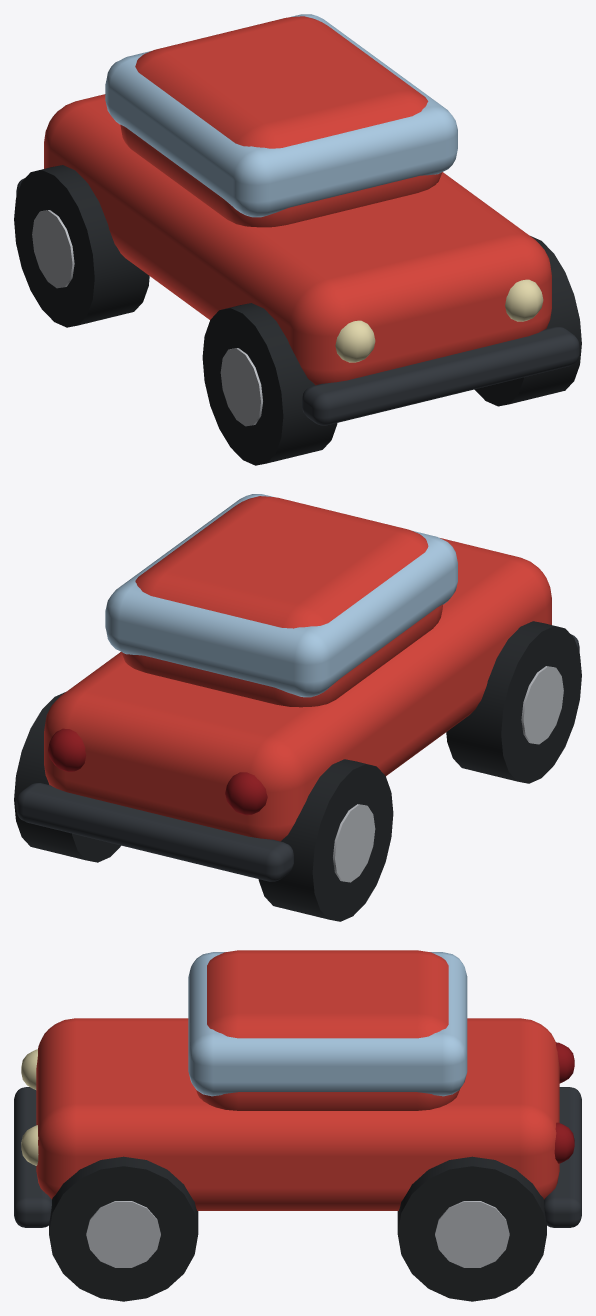
Rendered from car.glb.
3 renders of one model, top to bottom at view 1: azimuth 30°, elevation 25°; view 2: azimuth 150°, elevation 25°; view 3: azimuth 270°, elevation 25°, orthographic. The views are drawn at different scales.
Visible parts, largest first — view 1: body, wheel_rr, wheel_fr, wheel_fl; view 2: body, wheel_fr, wheel_rr, wheel_rl; view 3: body, wheel_fl, wheel_rl.
Boxes of the visible parts, x1=… form: body: x1=16, y1=14, x2=579, y2=425; wheel_rr: x1=14, y1=165, x2=149, y2=327; wheel_fr: x1=202, y1=303, x2=337, y2=465; wheel_fl: x1=474, y1=236, x2=581, y2=406; body: x1=16, y1=494, x2=579, y2=881; wheel_fr: x1=446, y1=621, x2=581, y2=783; wheel_rr: x1=258, y1=759, x2=393, y2=921; wheel_rl: x1=14, y1=692, x2=120, y2=862; body: x1=14, y1=950, x2=581, y2=1227; wheel_fl: x1=49, y1=1156, x2=198, y2=1301; wheel_rl: x1=397, y1=1156, x2=546, y2=1301.
Bounding box in the file's own units: 1.3 × 1.11 × 2.28.
